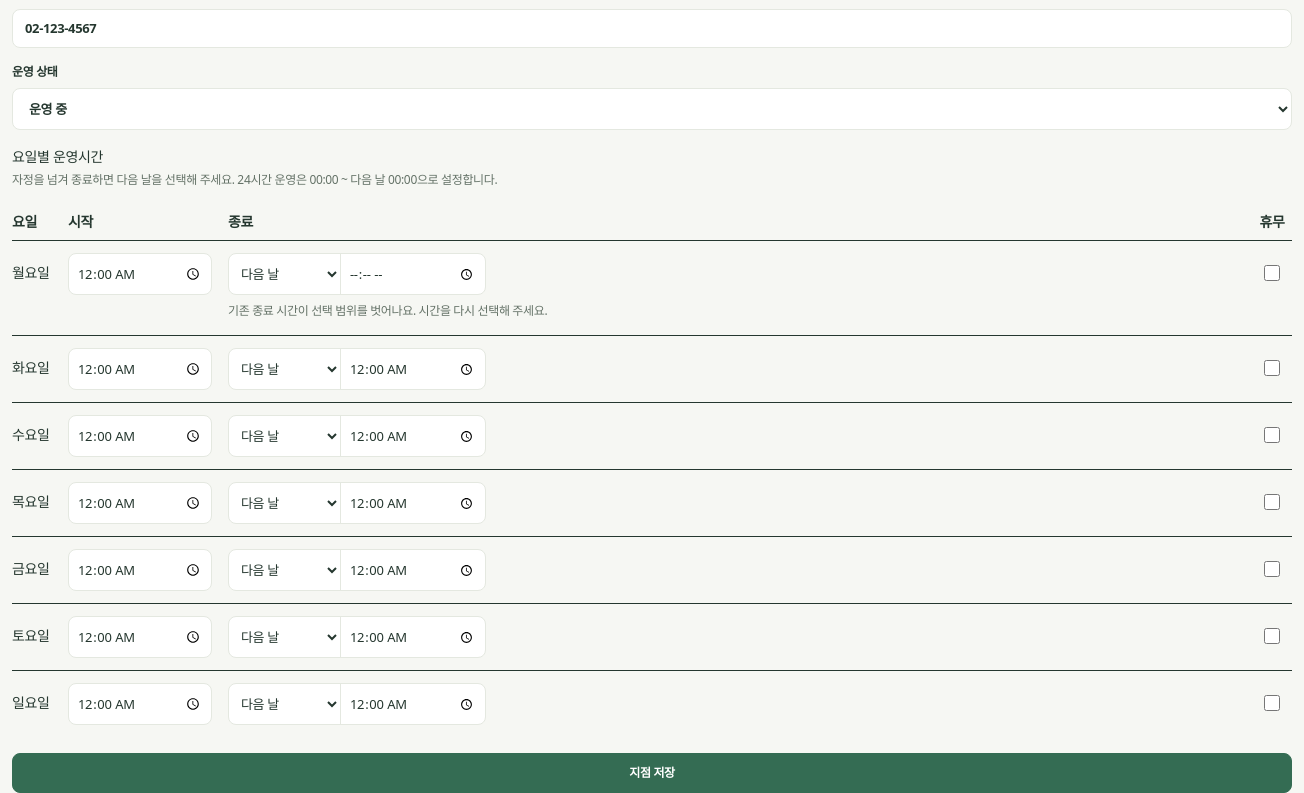
requires a new closing time for an existing next-day 24:00 value
(page scrolled)
Check: the dropdown named "월요일 종료 기준일" shows "다음 날", box [229, 254, 341, 294]
Check: the time field named "월요일 종료" is empty, box [341, 254, 485, 294]
Step 1. Click the button "지점 저장" → (652, 773), box [12, 753, 1292, 792]
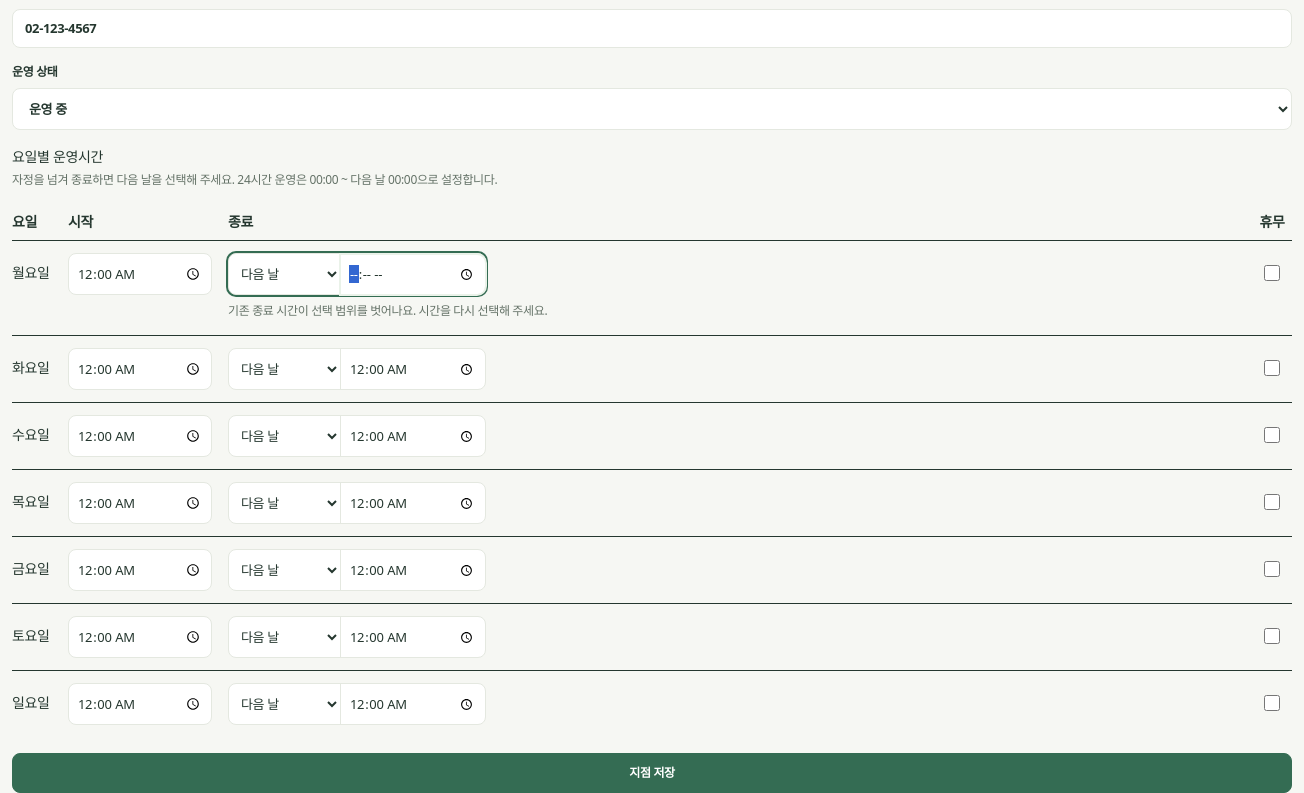
Step 2. Type "02:00" into the time field named "월요일 종료" → (413, 274), box [341, 254, 485, 294]
(page scrolled)
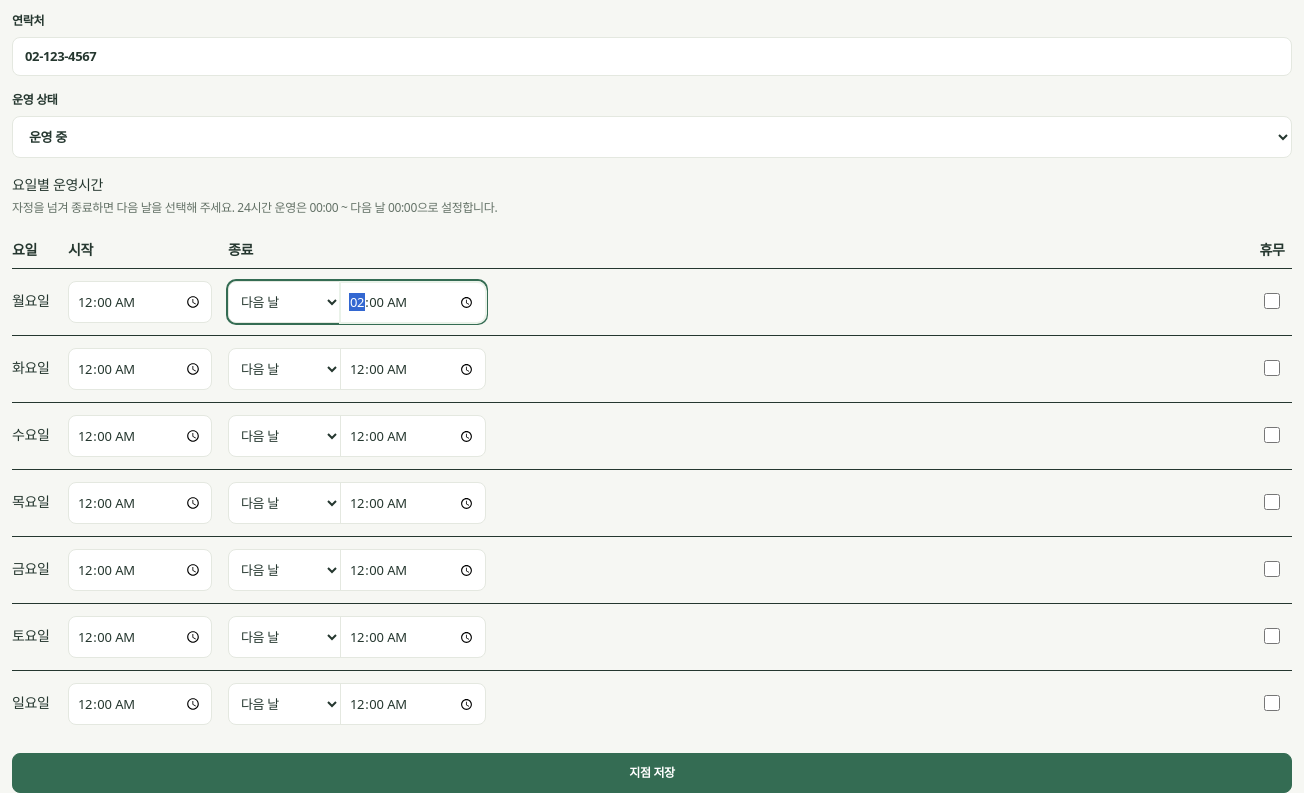
Check: the text "기존 종료 시간이 선택 범위를" is gone
